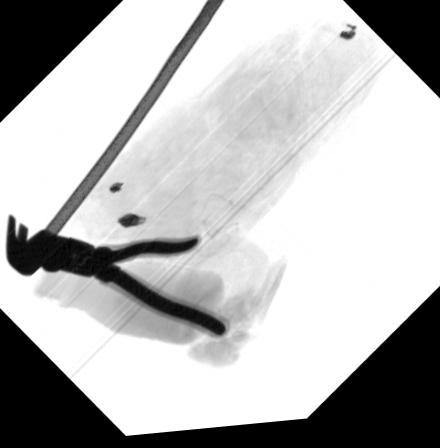Hammer: (4, 0, 226, 276)
Pliers: (36, 236, 232, 342)
